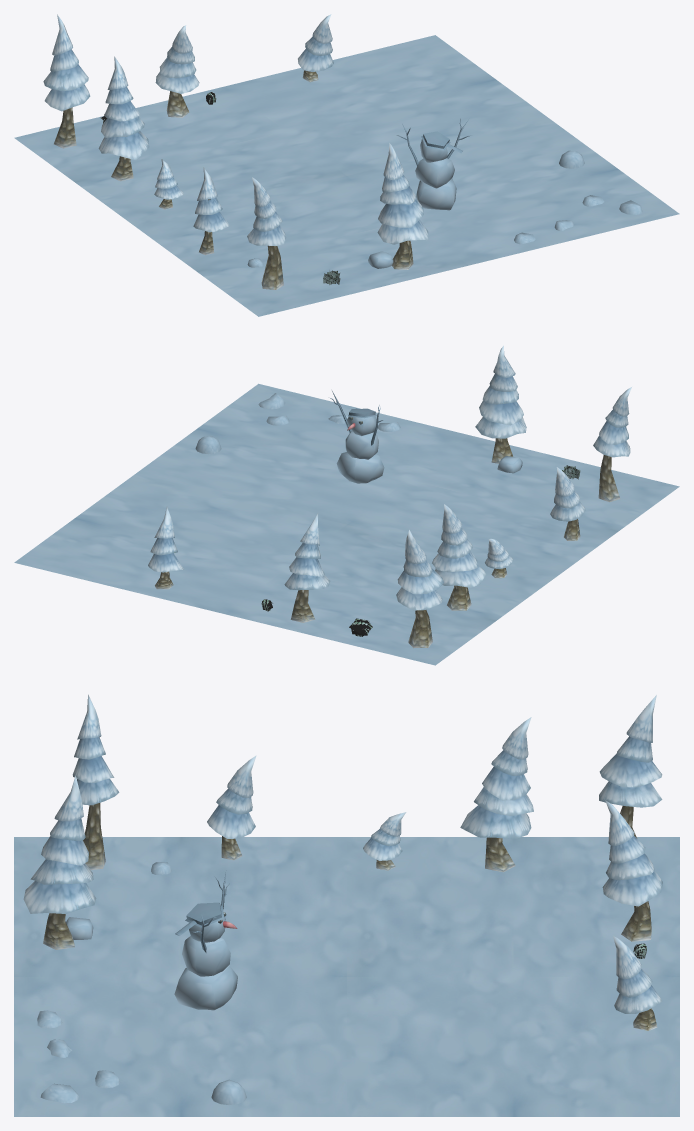
File: baseScene.glb
3 views of the same model, one above another, from view 1: azimuth 30°, elevation 25°; view 2: azimuth 150°, elevation 25°; view 3: azimuth 270°, elevation 25° (orthographic). The views are drawn at different scales.
Parts seen in each view (by area): view 1: Plane002_GroundSnow_0, Plane004_GroundSnow_0, Tree009_Trees_0, Tree002_Trees_0, Tree008_Trees_0, Tree006_Trees_0, Tree005_Trees_0, Tree012_Trees_0, Tree004_Trees_0, SnowCap011_GroundSnow_0, SnowCap012_GroundSnow_0, Tree011_Trees_0 (+1 smaller); view 2: Plane004_GroundSnow_0, Plane002_GroundSnow_0, Tree009_Trees_0, Tree008_Trees_0, Tree002_Trees_0, Tree005_Trees_0, Tree006_Trees_0, Tree004_Trees_0, Tree012_Trees_0, SnowCap011_GroundSnow_0, SnowCap012_GroundSnow_0, Tree011_Trees_0; view 3: Plane002_GroundSnow_0, Plane004_GroundSnow_0, Tree009_Trees_0, Tree002_Trees_0, Tree005_Trees_0, Tree008_Trees_0, Tree006_Trees_0, Tree012_Trees_0, Tree004_Trees_0, SnowCap011_GroundSnow_0, SnowCap012_GroundSnow_0, Tree011_Trees_0 (+2 smaller).
Part boxes in pixels (x1,y1,x2,y2): Plane002_GroundSnow_0: (14,35,557,227); Plane004_GroundSnow_0: (136,124,679,316); Tree009_Trees_0: (377,143,428,269); Tree002_Trees_0: (98,56,149,181); Tree008_Trees_0: (43,14,90,148); Tree006_Trees_0: (247,177,286,289); Tree005_Trees_0: (155,25,199,117); Tree012_Trees_0: (193,167,229,255); Tree004_Trees_0: (298,14,333,82); SnowCap011_GroundSnow_0: (416,178,456,210); SnowCap012_GroundSnow_0: (415,158,454,188); Tree011_Trees_0: (154,159,183,209); Plane004_GroundSnow_0: (136,383,679,575); Plane002_GroundSnow_0: (14,473,557,665); Tree009_Trees_0: (475,345,526,463); Tree008_Trees_0: (396,530,443,648); Tree002_Trees_0: (432,504,486,610); Tree005_Trees_0: (284,513,330,622); Tree006_Trees_0: (593,387,631,502); Tree004_Trees_0: (148,506,184,589); Tree012_Trees_0: (550,467,585,540); SnowCap011_GroundSnow_0: (336,452,384,483); SnowCap012_GroundSnow_0: (345,431,378,459); Tree011_Trees_0: (485,538,513,578); Plane002_GroundSnow_0: (347,837,679,1116); Plane004_GroundSnow_0: (14,837,346,1116); Tree009_Trees_0: (23,775,96,949); Tree002_Trees_0: (460,717,533,872); Tree005_Trees_0: (602,800,662,941); Tree008_Trees_0: (599,695,662,838); Tree006_Trees_0: (72,694,119,869); Tree012_Trees_0: (207,755,256,860); Tree004_Trees_0: (613,936,662,1030); SnowCap011_GroundSnow_0: (174,965,237,1010); SnowCap012_GroundSnow_0: (182,936,230,976); Tree011_Trees_0: (363,812,406,870).
Size of what is drawn, in the model's own units: 47.4 by 13.67 by 47.65.
Materials: 5 (5 with a texture image).
